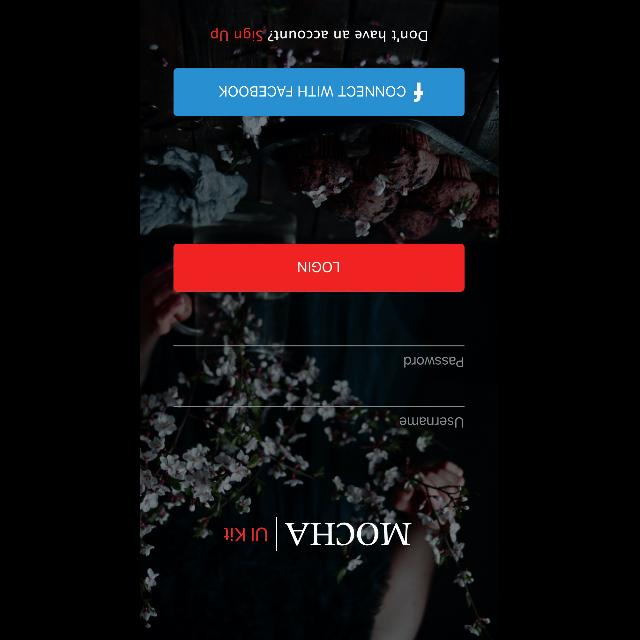backgroundimage: (140, 1, 500, 640)
input: (173, 406, 465, 428), (173, 345, 465, 367)
text: (210, 28, 428, 42), (286, 522, 412, 546), (401, 417, 464, 428), (404, 357, 464, 368), (225, 527, 268, 541)
textbutton: (173, 244, 465, 292), (174, 68, 466, 116)
